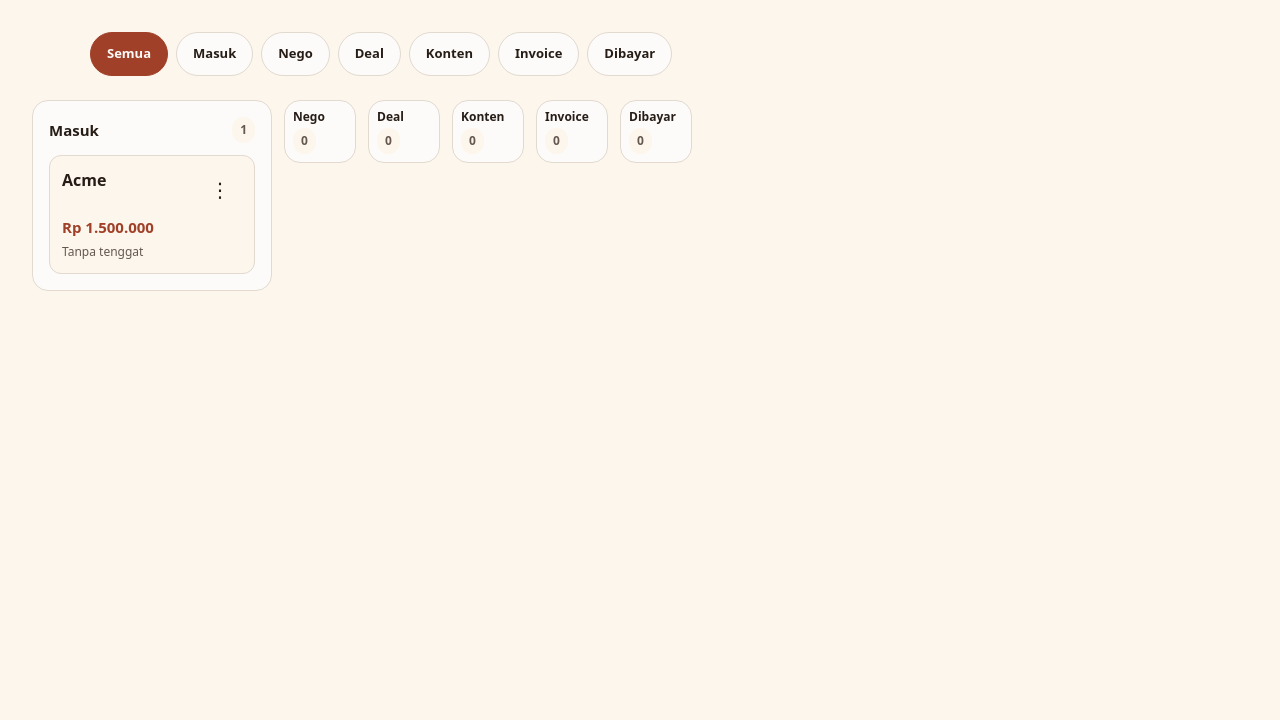
Test: DealClient stage movement (T-15) › moves the card immediately (optimistic), before the request resolves
Click the button named "Aksi lain untuk deal Acme": (220, 190) x1=198 y1=168 x2=242 y2=212
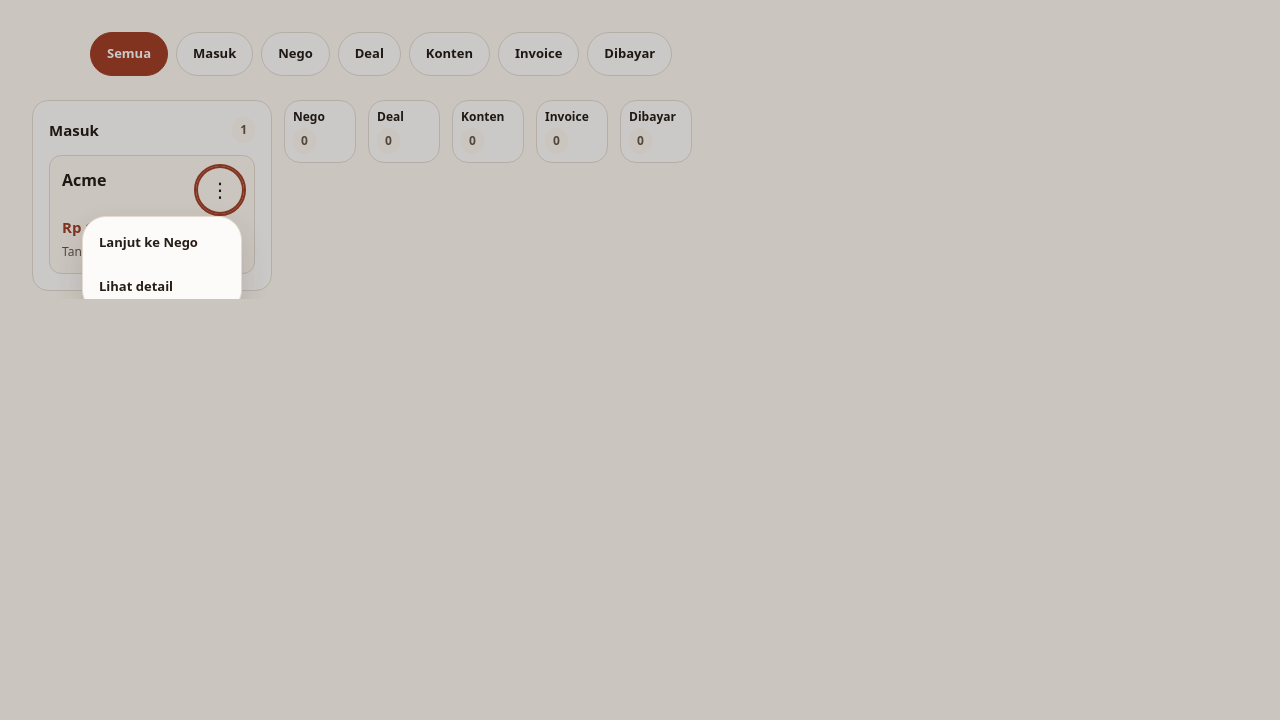
Click the menu item "Lanjut ke Nego": (162, 243) x1=87 y1=221 x2=237 y2=265
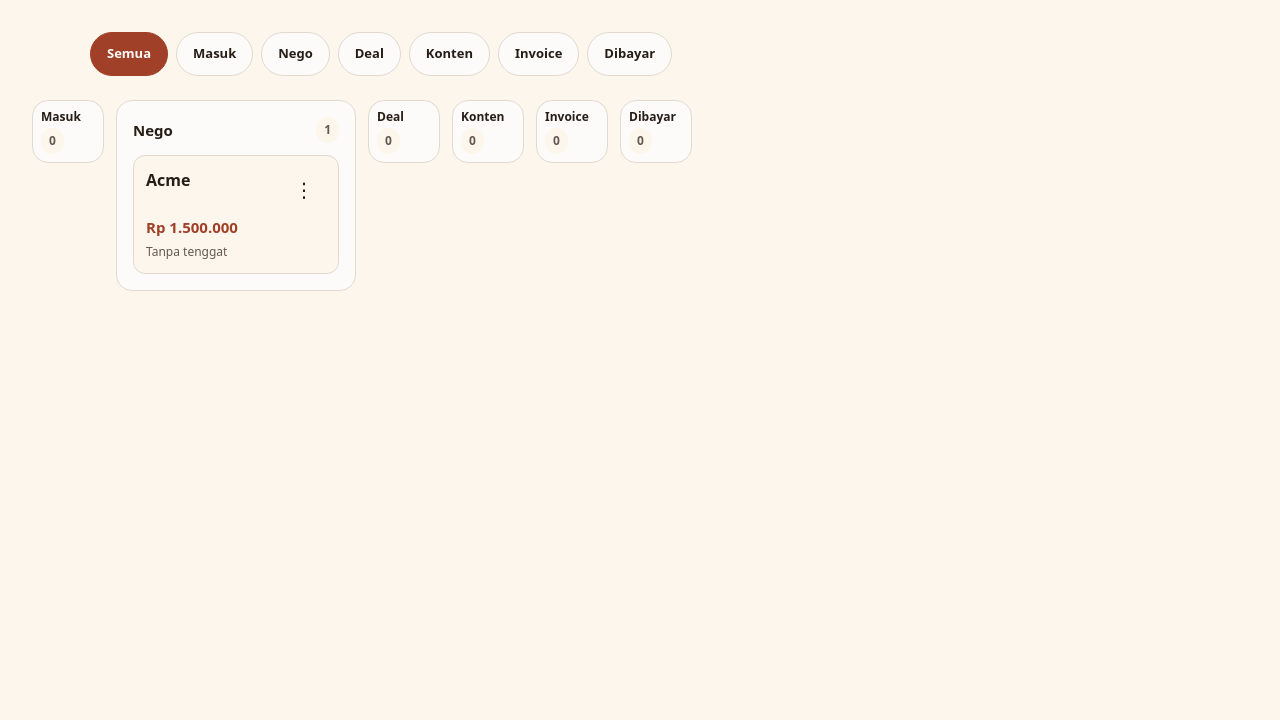
Expected: the element "Nego" shows "Acme", x1=146 y1=169 x2=190 y2=191
